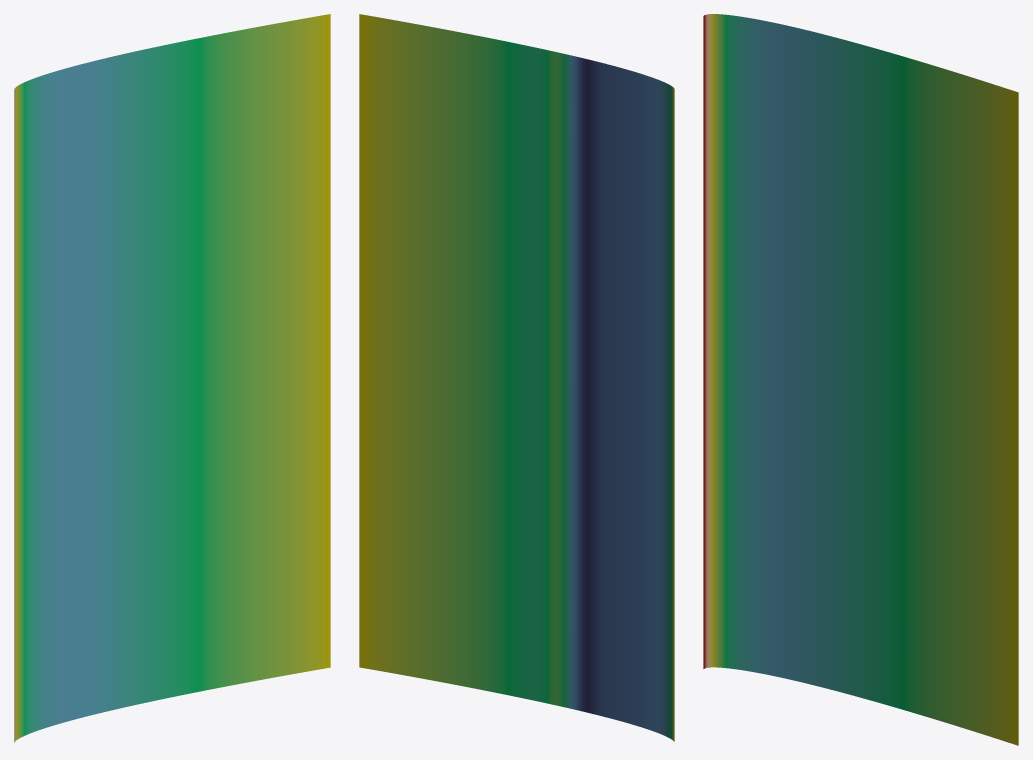
The model's file is morphing_wing_13.glb.
3 views of the same model, side by side, from view 1: azimuth 30°, elevation 25°; view 2: azimuth 150°, elevation 25°; view 3: azimuth 330°, elevation 25° (orthographic).
Parts seen in each view (by area): view 1: part_0_0; view 2: part_0_0; view 3: part_0_0.
Boxes of the visible parts, x1,y1,x2,y2 form: part_0_0: (14, 14, 330, 742); part_0_0: (359, 14, 674, 741); part_0_0: (703, 14, 1018, 745).
Size of the model in its own units: 1.01 by 2 by 0.12.
